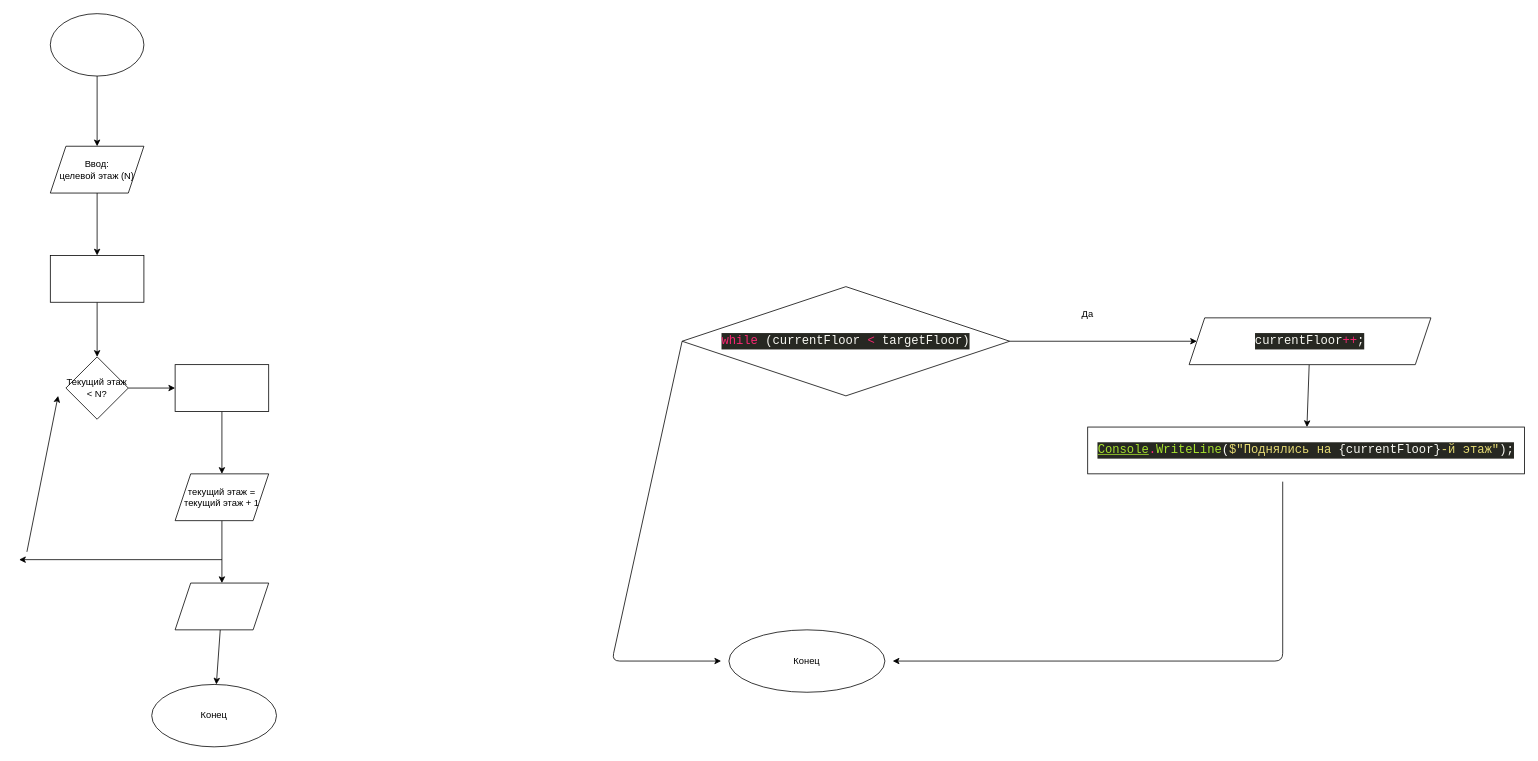
The diagram is 1538 pixels wide and 761 high, and some of its shapes have lost their labels. Here are the shapes that lost their labels. From the top down, the centre of each, then its label:
the point at 97,44: Начало
the point at 97,278: текущий этаж = 1
the point at 221,387: Поднять на этаж выше
the point at 221,606: Вы на целевом этаже!
